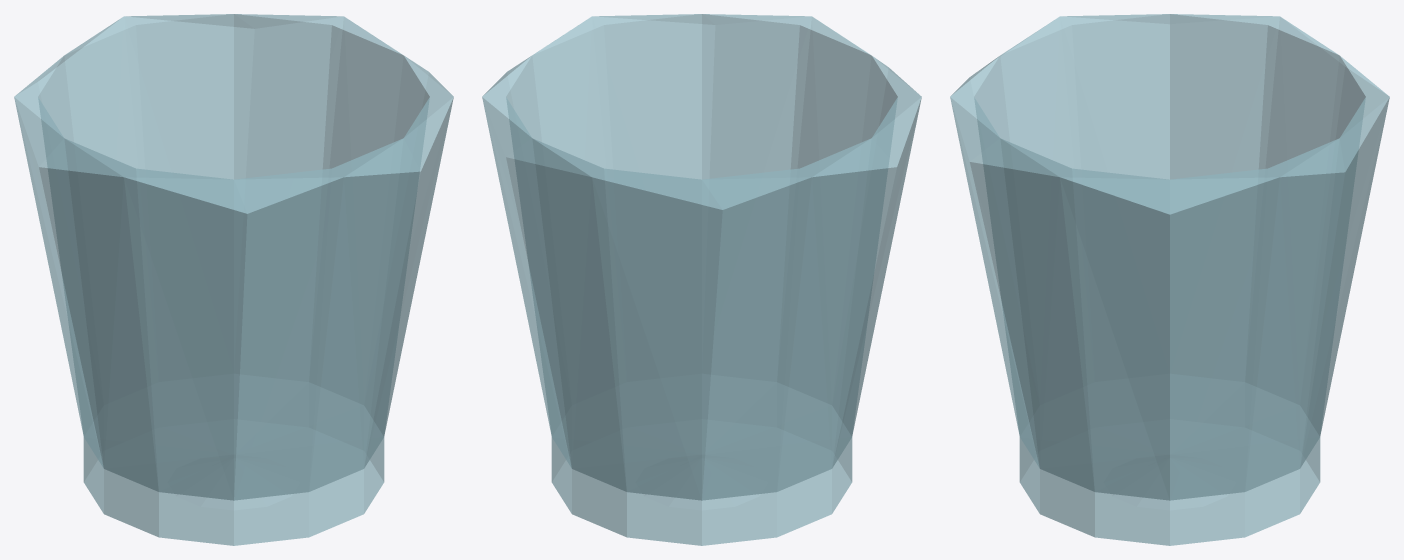
Rendered from shot-glass.fbx.
3 views of the same model, side by side, from view 1: azimuth 30°, elevation 25°; view 2: azimuth 150°, elevation 25°; view 3: azimuth 270°, elevation 25° (orthographic).
Visible parts, largest first — view 1: shotGlass-2; view 2: shotGlass-2; view 3: shotGlass-2.
Part boxes in pixels (<box>): shotGlass-2: <box>14,14,453,545</box>; shotGlass-2: <box>482,14,921,545</box>; shotGlass-2: <box>950,14,1389,545</box>.
Bounding box in the file's own units: 18 × 17 × 17.57.
